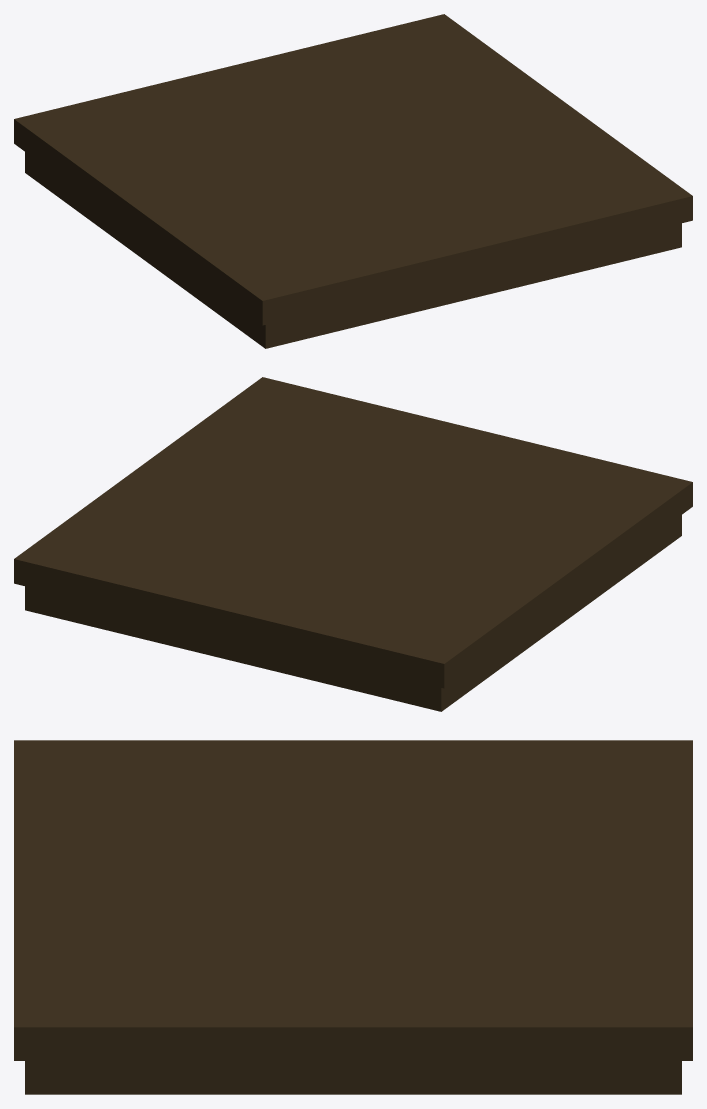
Rendered from Itr_Table6_Top_02.FBX.
3 views of the same model, one above another, from view 1: azimuth 30°, elevation 25°; view 2: azimuth 150°, elevation 25°; view 3: azimuth 270°, elevation 25° (orthographic). The views are drawn at different scales.
Parts seen in each view (by area): view 1: Itr_Table6_Top_02; view 2: Itr_Table6_Top_02; view 3: Itr_Table6_Top_02.
Part boxes in pixels (<box>): Itr_Table6_Top_02: <box>14,14,692,348</box>; Itr_Table6_Top_02: <box>14,377,692,711</box>; Itr_Table6_Top_02: <box>14,740,692,1094</box>.
Size of the model in its own units: 40.13 by 4.69 by 40.15.
